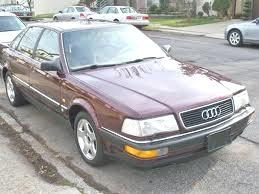Audi: (198, 102, 224, 124)
